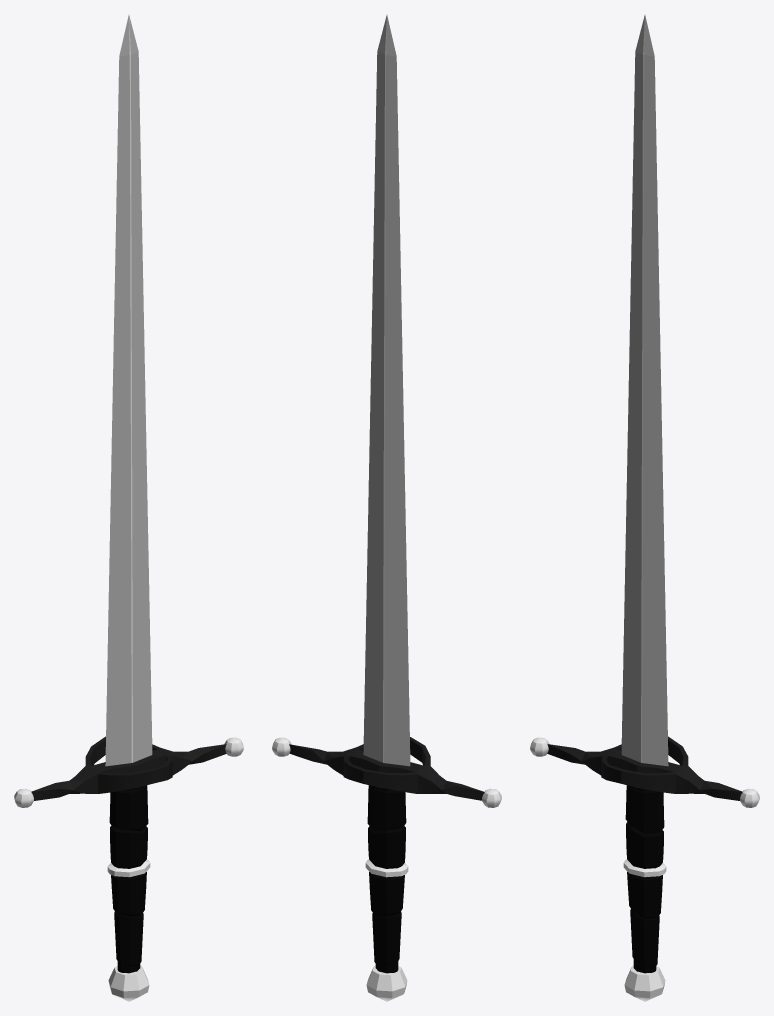
The model's file is SM_Sword07_GermanBastard_3Silver.fbx.
3 renders of one model, left to right at view 1: azimuth 30°, elevation 25°; view 2: azimuth 150°, elevation 25°; view 3: azimuth 330°, elevation 25°, orthographic.
Parts seen in each view (by area): view 1: Cube.290, Cylinder.195, Cube.291, Sphere.102, Sphere.083; view 2: Cube.290, Cylinder.195, Cube.291, Sphere.102, Sphere.083; view 3: Cube.290, Cylinder.195, Cube.291, Sphere.102, Sphere.083.
Part boxes in pixels (box(x1,y1,x2,y2)): Cube.290: box(105, 15, 152, 766); Cylinder.195: box(107, 785, 150, 973); Cube.291: box(31, 736, 226, 800); Sphere.102: box(108, 965, 149, 1001); Sphere.083: box(14, 737, 243, 807); Cube.290: box(363, 15, 410, 766); Cylinder.195: box(365, 785, 408, 973); Cube.291: box(289, 737, 484, 800); Sphere.102: box(366, 965, 407, 1001); Sphere.083: box(272, 737, 501, 807); Cube.290: box(621, 15, 668, 766); Cylinder.195: box(623, 785, 666, 973); Cube.291: box(547, 736, 742, 800); Sphere.102: box(624, 965, 665, 1001); Sphere.083: box(530, 737, 759, 807).
Size of the model in its own units: 0.2986 by 1.24 by 0.1071.
